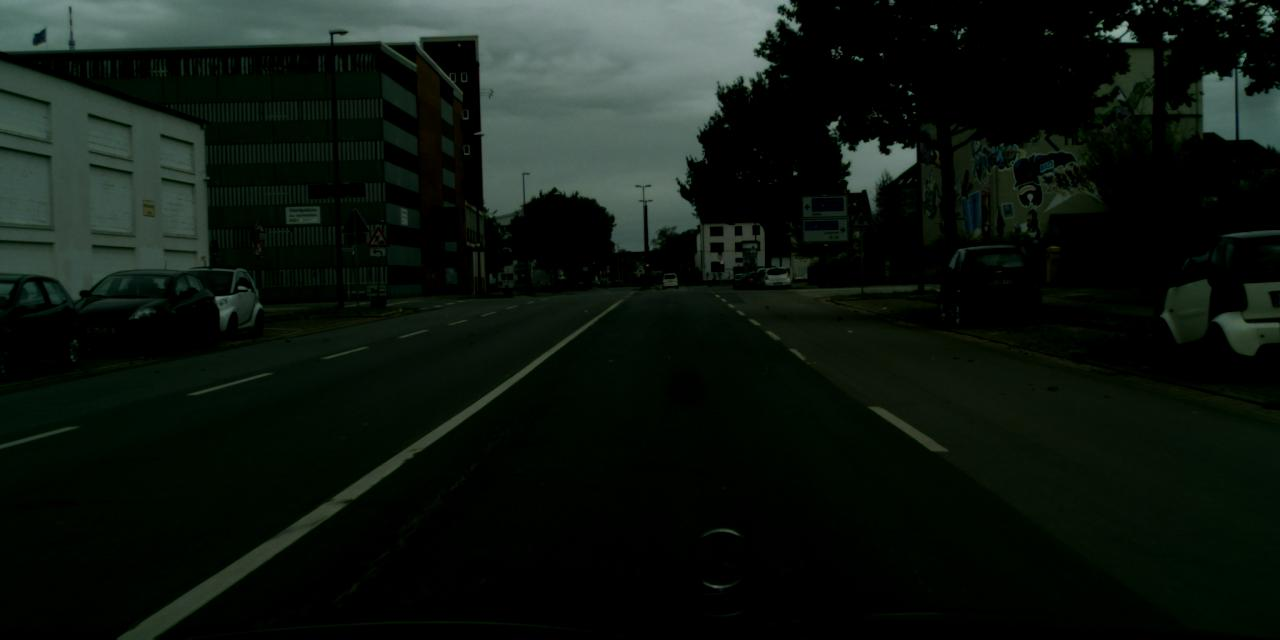ped: (711, 273, 716, 283)
